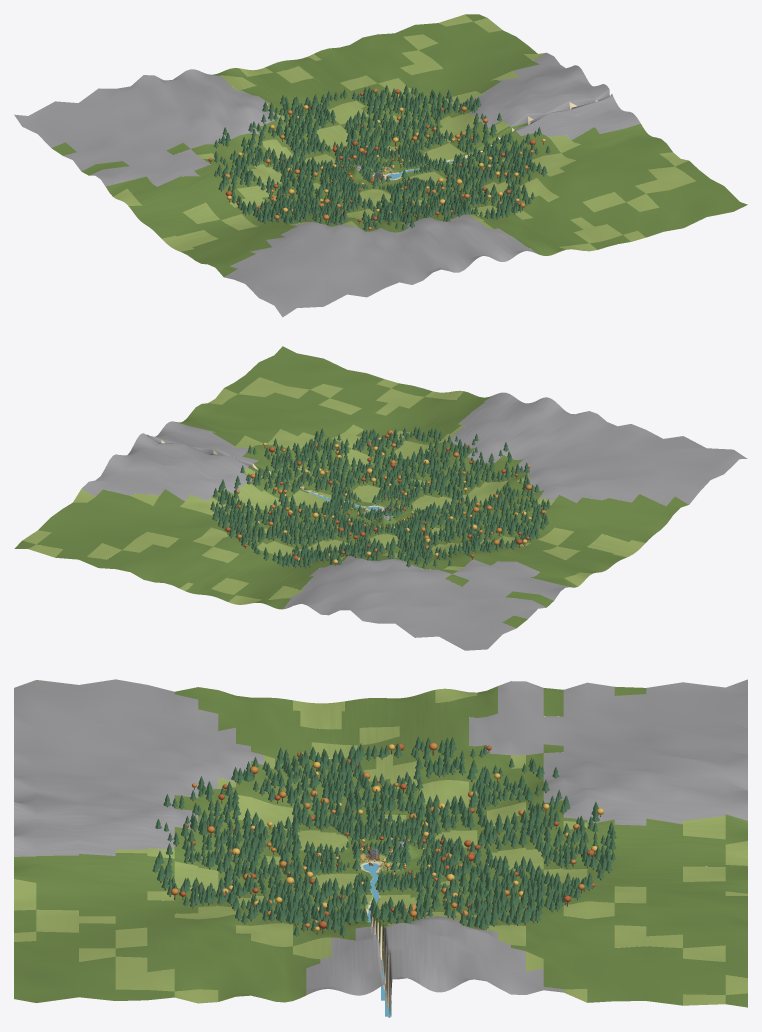
File: forest.glb
3 renders of one model, top to bottom at view 1: azimuth 30°, elevation 25°; view 2: azimuth 150°, elevation 25°; view 3: azimuth 270°, elevation 25°, orthographic. The views are drawn at different scales.
Parts seen in each view (by area): view 1: far_ground, far_trees_pine_distant, far_trees_pine, far_trees_trunk_distant, far_trees_leaf_red_distant, far_trees_leaf_orange_distant, far_trees_leaf_rust_distant; view 2: far_ground, far_trees_pine_distant, far_trees_trunk_distant, far_trees_pine, far_trees_leaf_red_distant, far_trees_leaf_rust_distant, far_trees_leaf_orange_distant; view 3: far_ground, far_trees_pine_distant, far_trees_pine, far_trees_trunk_distant, far_trees_leaf_red_distant, far_trees_leaf_orange_distant, far_trees_leaf_rust_distant, static.
Boxes of the visible parts, x1,y1,x2,y2 form: far_ground: (14,14,747,317); far_trees_pine_distant: (214,85,550,230); far_trees_pine: (338,149,424,191); far_trees_trunk_distant: (210,93,548,231); far_trees_leaf_red_distant: (225,89,533,229); far_trees_leaf_orange_distant: (227,104,545,213); far_trees_leaf_rust_distant: (208,89,535,221); far_ground: (14,346,747,650); far_trees_pine_distant: (210,426,550,568); far_trees_trunk_distant: (212,436,548,568); far_trees_pine: (336,488,423,530); far_trees_leaf_red_distant: (234,430,546,557); far_trees_leaf_rust_distant: (225,434,529,560); far_trees_leaf_orange_distant: (255,437,531,564); far_ground: (14,679,747,1017); far_trees_pine_distant: (152,736,616,935); far_trees_pine: (320,824,441,882); far_trees_trunk_distant: (155,749,613,937); far_trees_leaf_red_distant: (170,743,584,927); far_trees_leaf_orange_distant: (197,744,603,931); far_trees_leaf_rust_distant: (180,743,595,928); static: (354,841,407,872).
Size of the model in its own units: 220 by 13.47 by 220.
